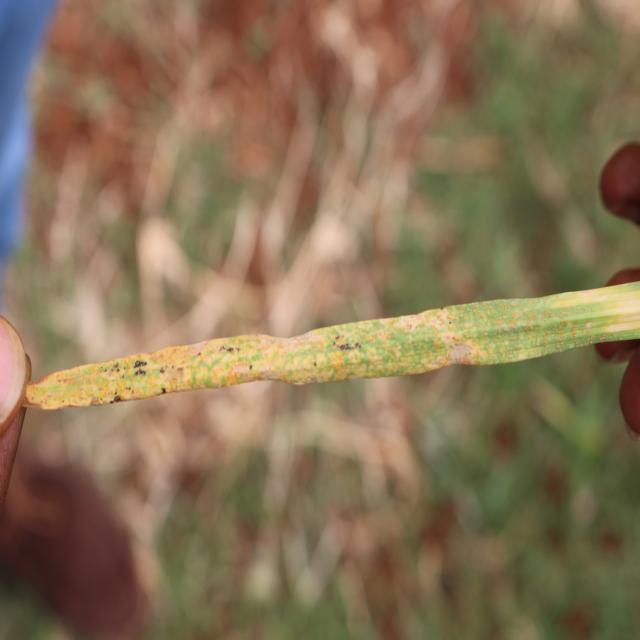Stripe Rust: (26, 298, 503, 410)
